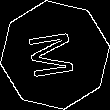M_E: (26, 28, 84, 82)
